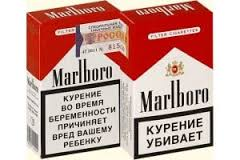marlboro: (42, 23, 123, 150), (134, 23, 214, 147)
